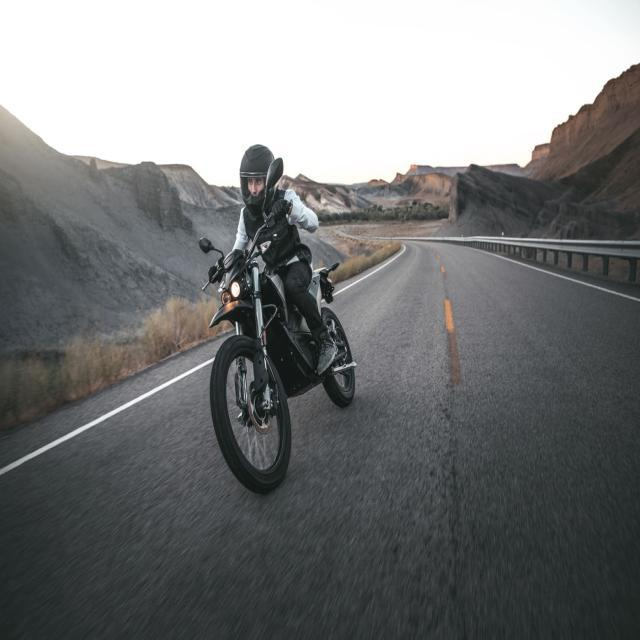motorcycle: (198, 204, 358, 494)
